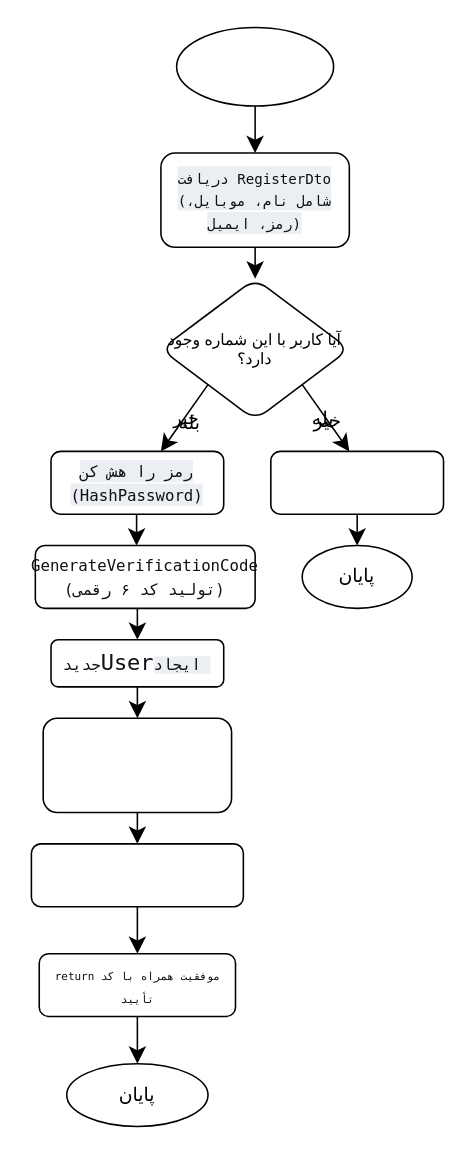
The diagram is 471 pixels wide and 1154 high, and some of its shapes have lost their labels. Each missing label, with the centre of its shape:
"HashPassword (هش کردن رمز)" goes at point (356, 482).
"ذخیره کاربر در دیتابیس (CreateUserAsync)" goes at point (137, 764).
"ذخیره کد تأیید برای کاربر (UpdateVerificationCodeAsync)" goes at point (136, 874).
"شروع" goes at point (254, 66).
